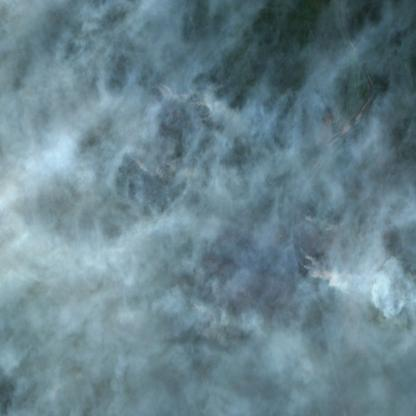fire: (292, 217, 332, 295)
